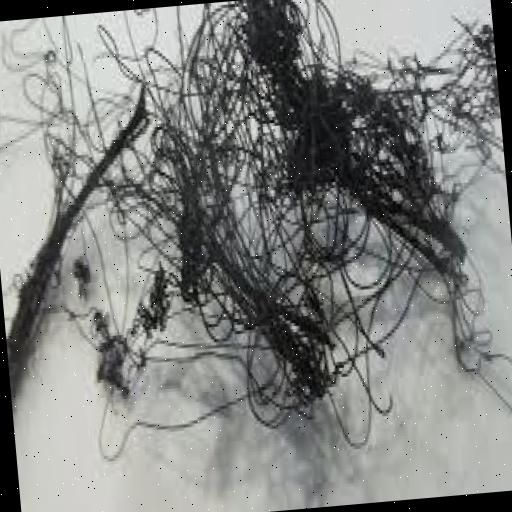spaghetti: (72, 18, 512, 470)
